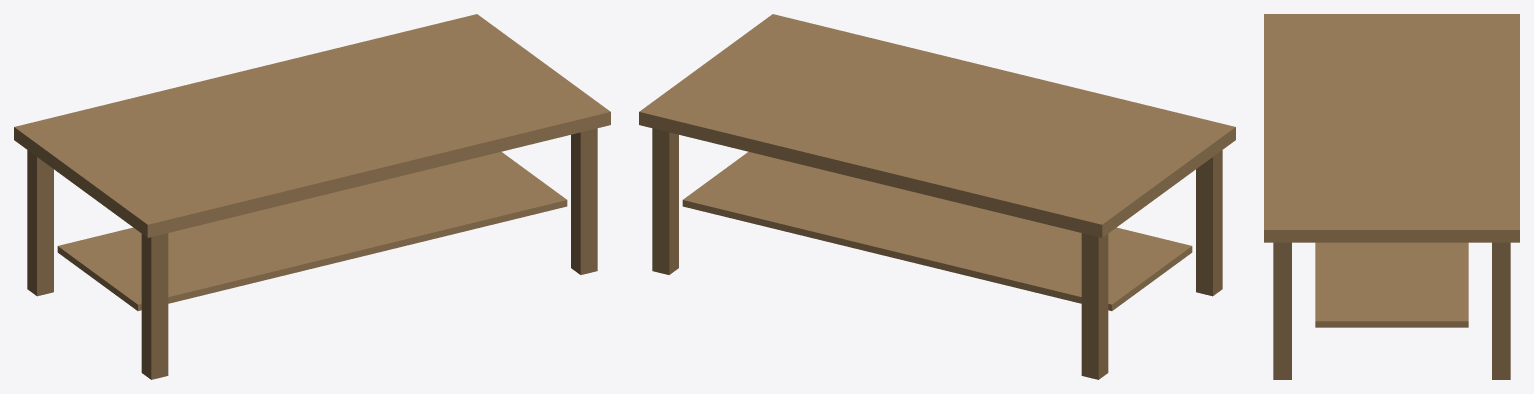
File: low-computer-desk.glb
The picture shows the model from 3 angles, left to right: view 1: azimuth 30°, elevation 25°; view 2: azimuth 150°, elevation 25°; view 3: azimuth 270°, elevation 25°; orthographic projection. The views are drawn at different scales.
Parts seen in each view (by area): view 1: desk-top, desk-leg-0; view 2: desk-top, desk-leg-0; view 3: desk-top, desk-leg-0.
Boxes of the visible parts, box(x1,y1,x2,y2) form: desk-top: box(14, 14, 610, 310); desk-leg-0: box(27, 128, 597, 379); desk-top: box(639, 14, 1235, 310); desk-leg-0: box(652, 128, 1222, 379); desk-top: box(1264, 14, 1519, 327); desk-leg-0: box(1273, 242, 1510, 379).
Bounding box in the file's own units: 1.1 × 0.365 × 0.55.
